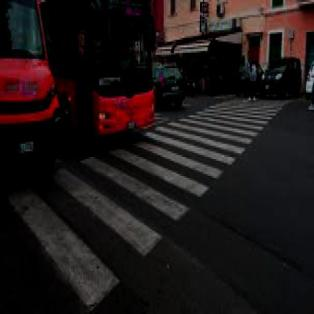Paso de Cebra: (75, 144, 211, 229)
